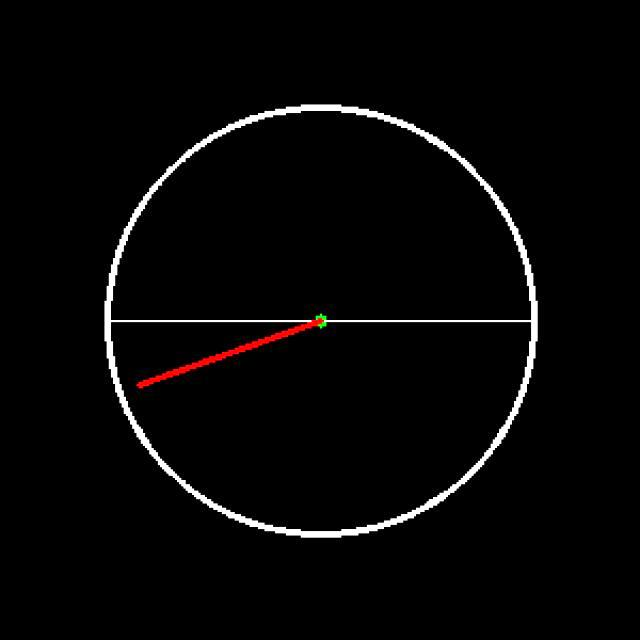Needle_Tip: (124, 356, 166, 402)
Needle_base: (285, 299, 358, 361)
